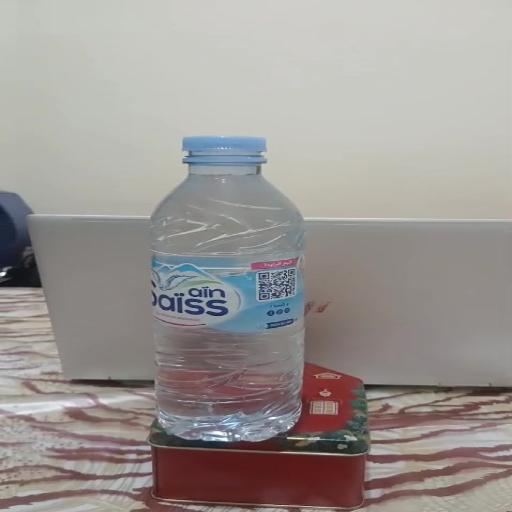bouteille non conformite: (168, 117, 294, 190)
